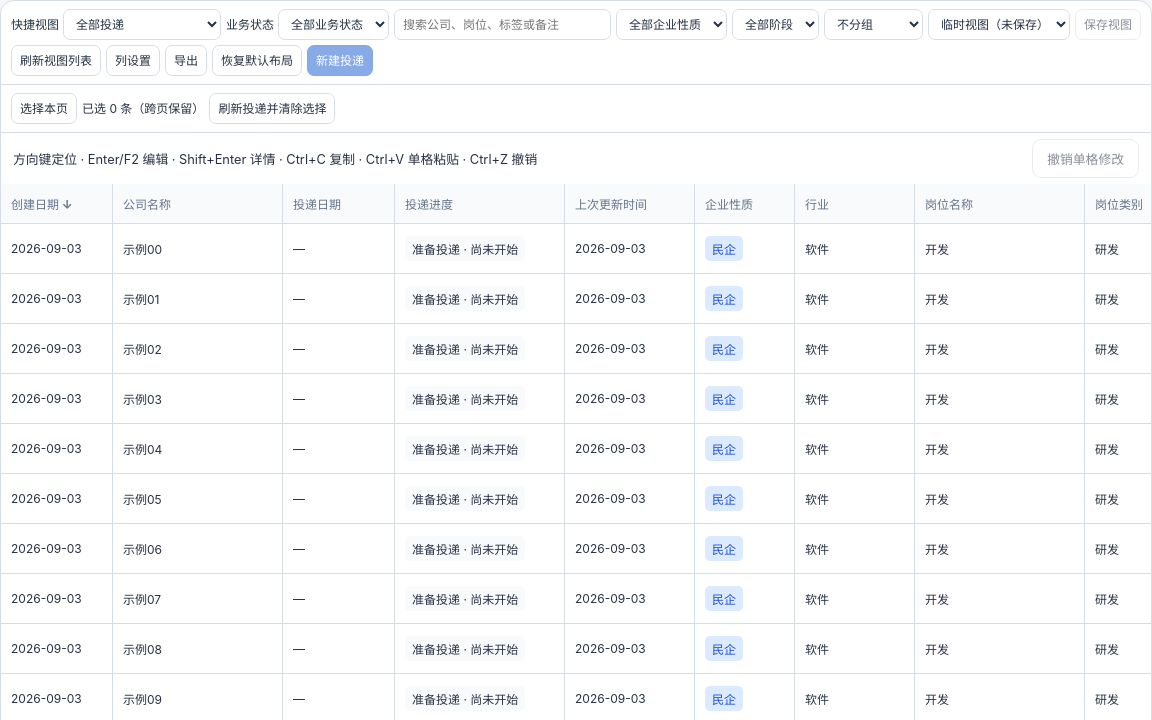
Test case: exports the entire filtered table across pagination from a read-only warehouse
Click the button "导出".
click(186, 60)  # box [165,45,207,76]
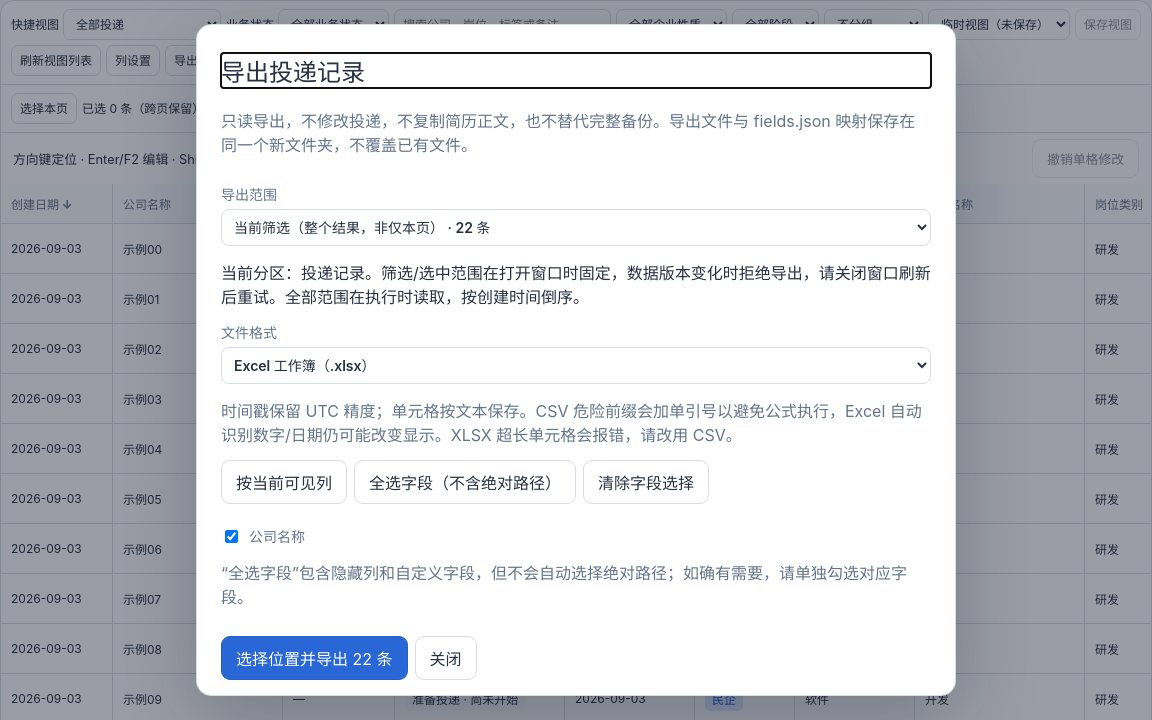
Expected: the button "选择位置并导出 22 条" is enabled
Click the button "选择位置并导出 22 条".
click(314, 658)  # box [221,636,408,680]
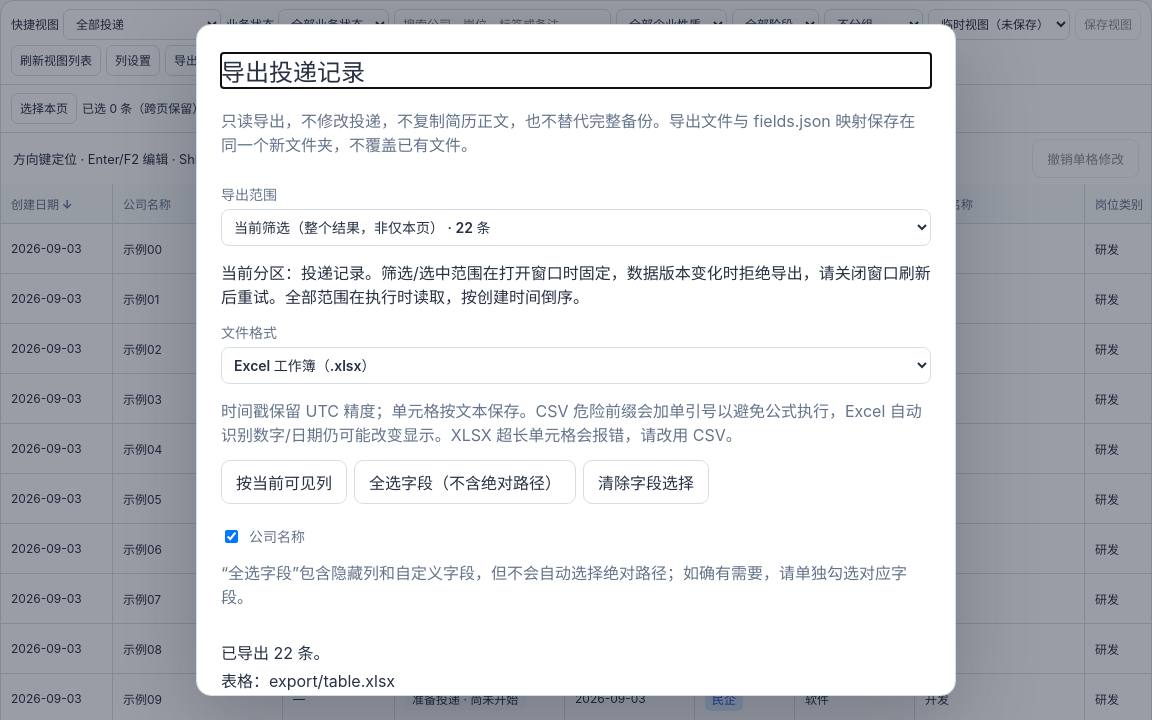
Expected: the text "已导出 22 条。" is shown, [221,643,330,663]
